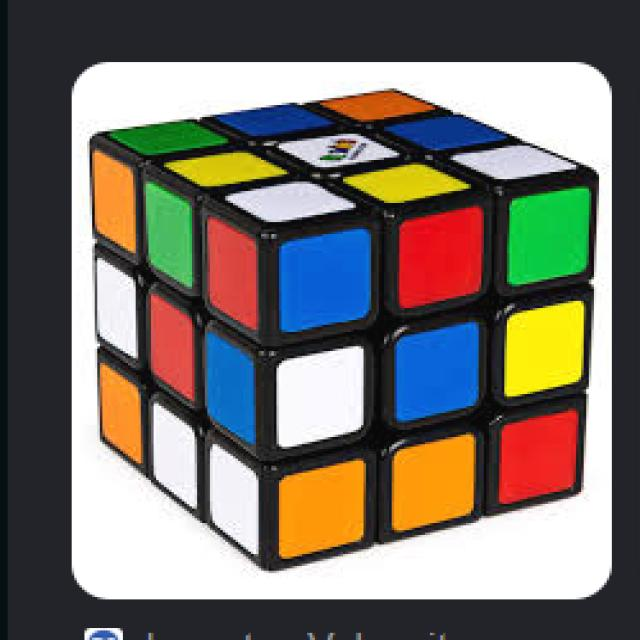Cubo-No-resuelto: (18, 60, 612, 602)
